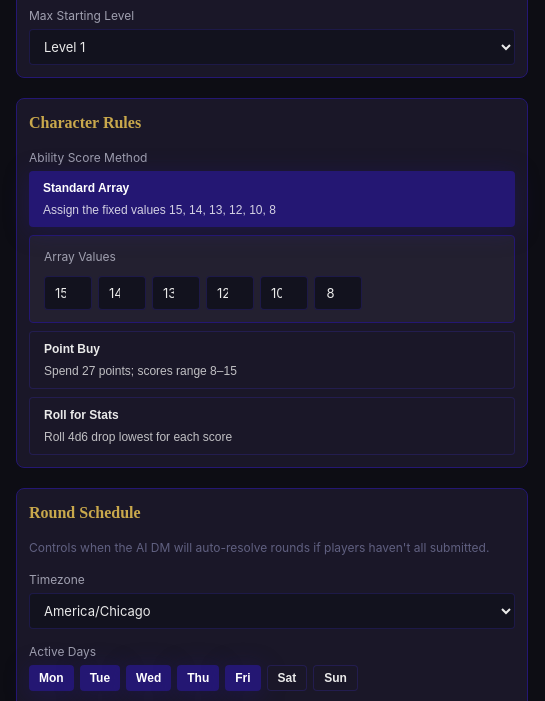
Scenario: Point Buy sub-settings › input appears when Point Buy is selected, pre-populated with 27
(page scrolled)
Click the button "Point Buy Spend 27 points; scores range 8–15" at {"x": 72, "y": 349}, box [29,331,515,389]
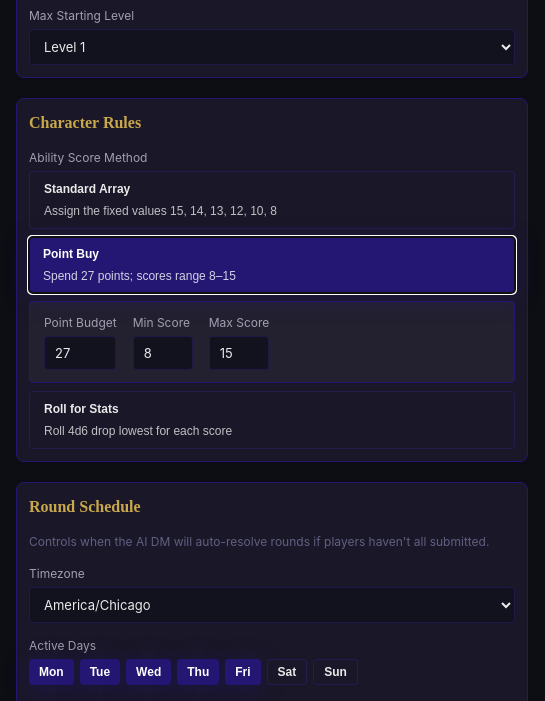
Expected: the number field named "point buy budget" holds "27", [44,336,116,370]
